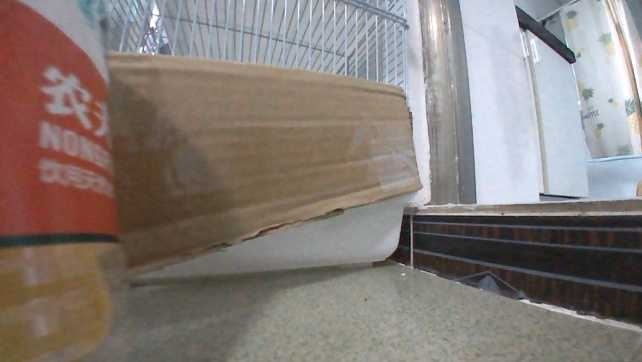door_sill: (405, 206, 640, 320)
toilet: (580, 135, 640, 199)
